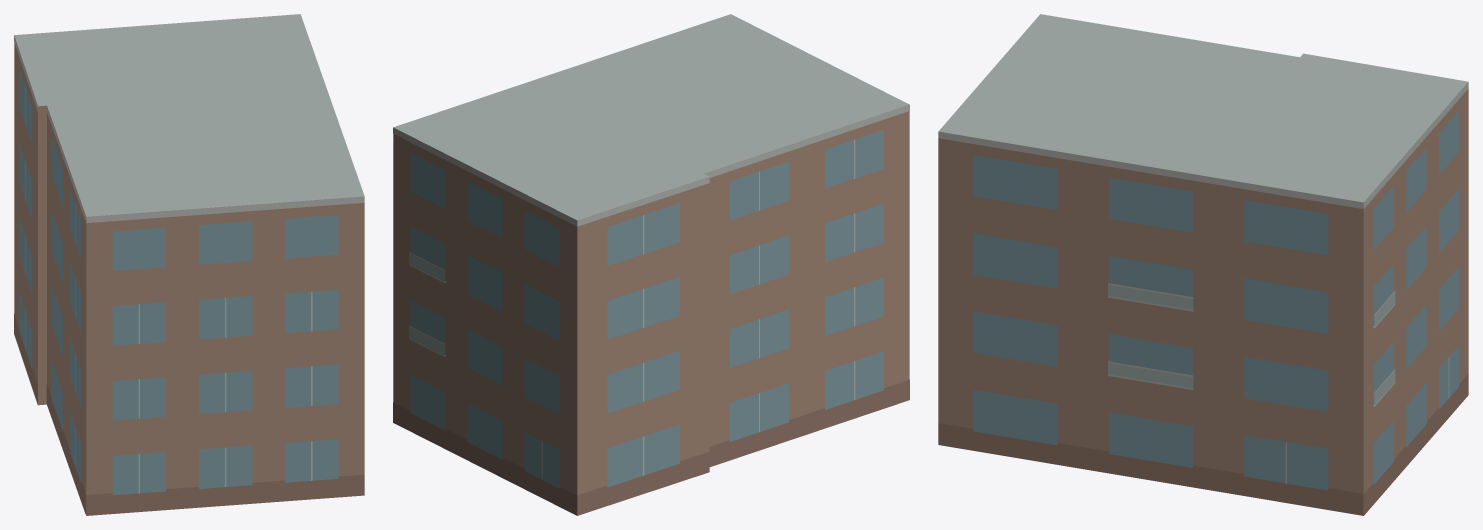
The model's file is survey-upis-32970901.glb.
3 renders of one model, left to right at view 1: azimuth 30°, elevation 25°; view 2: azimuth 150°, elevation 25°; view 3: azimuth 270°, elevation 25°, orthographic. The views are drawn at different scales.
Visible parts, largest first — view 1: survey-upis-32970901.tmp; view 2: survey-upis-32970901.tmp; view 3: survey-upis-32970901.tmp.
Boxes of the visible parts, x1,y1,x2,y2 form: survey-upis-32970901.tmp: [14, 14, 364, 515]; survey-upis-32970901.tmp: [393, 14, 909, 515]; survey-upis-32970901.tmp: [938, 14, 1468, 515].
Bounding box in the file's own units: 14.91 × 11.55 × 17.73.
